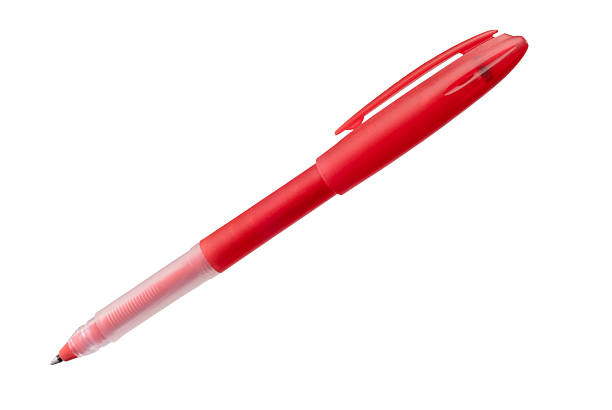pen: (39, 26, 536, 370)
